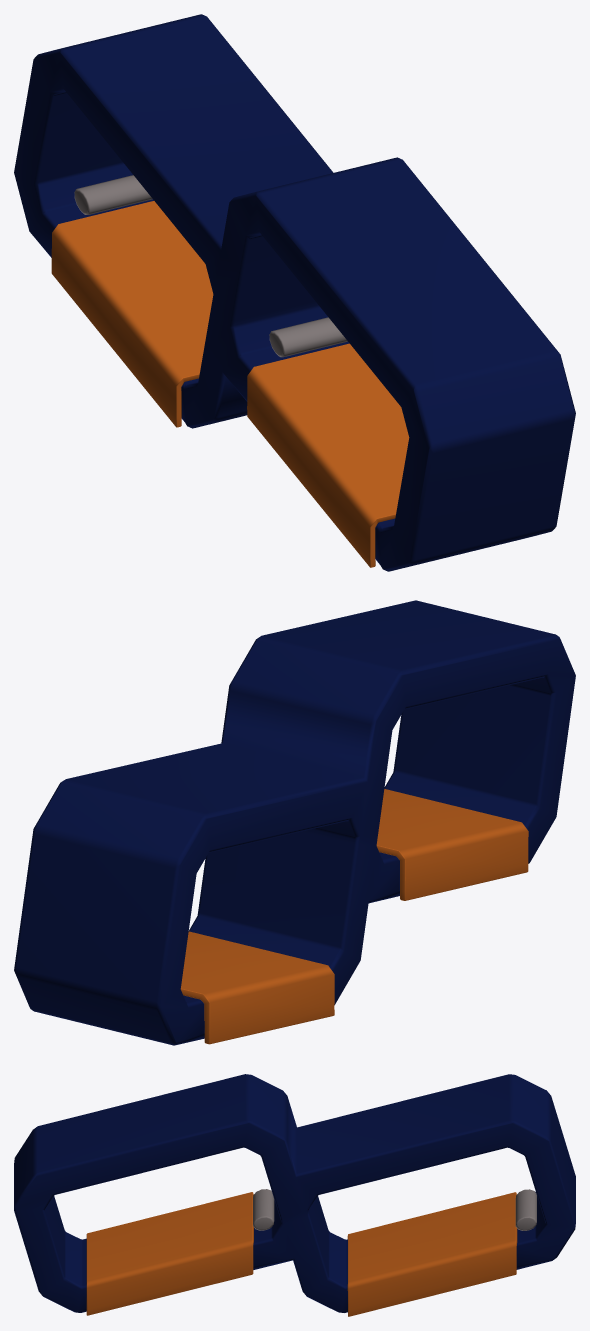
File: BunkBeds.fbx
The picture shows the model from 3 angles, top to bottom: view 1: azimuth 30°, elevation 25°; view 2: azimuth 150°, elevation 25°; view 3: azimuth 270°, elevation 25°; orthographic projection. The views are drawn at different scales.
Visible parts, largest first — view 1: BunkBeds; view 2: BunkBeds; view 3: BunkBeds.
Part boxes in pixels (bbox=[...]): BunkBeds: bbox=[14, 14, 575, 571]; BunkBeds: bbox=[14, 600, 575, 1045]; BunkBeds: bbox=[14, 1074, 575, 1316].
Bounding box in the file's own units: 121 × 210 × 552.
